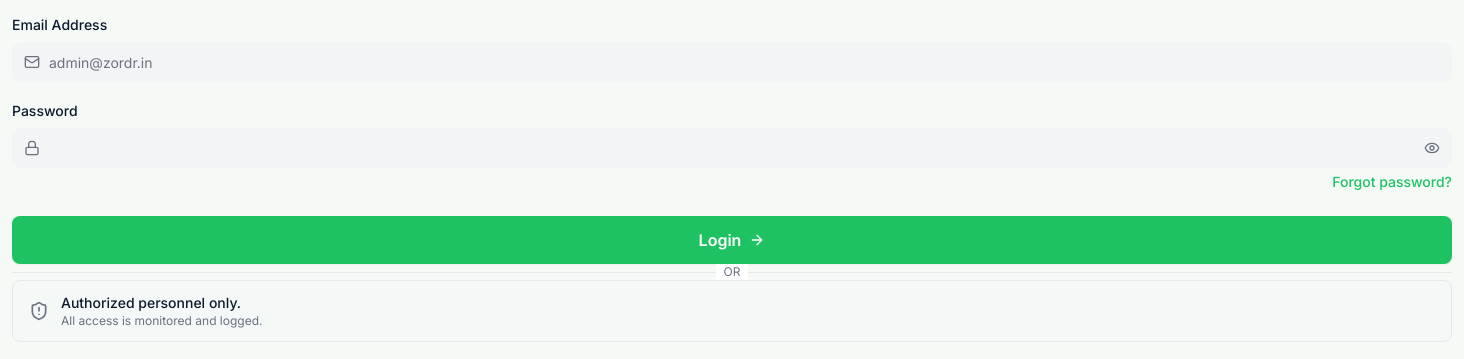
Test: LoginForm › MFA flow › renders MFA step when mfaRequired is true
Type "mfa@zordr.com" into the field labelled "Email Address" at {"x": 732, "y": 62}, box left=12, top=42, right=1452, bottom=82
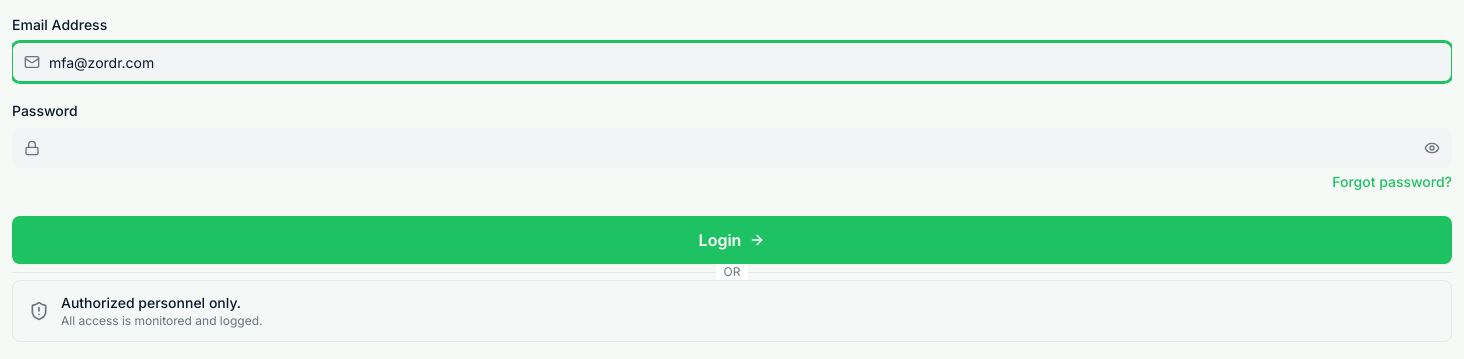
Type "Test@1234" into the password field labelled "Password" at {"x": 732, "y": 148}, box left=12, top=128, right=1452, bottom=168
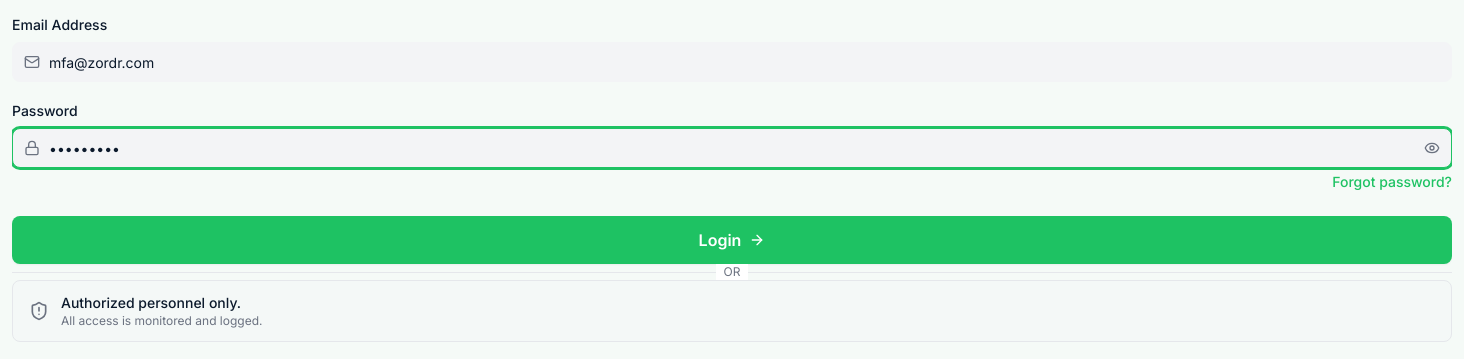
Click the button "Login" at {"x": 732, "y": 240}, box left=12, top=216, right=1452, bottom=264
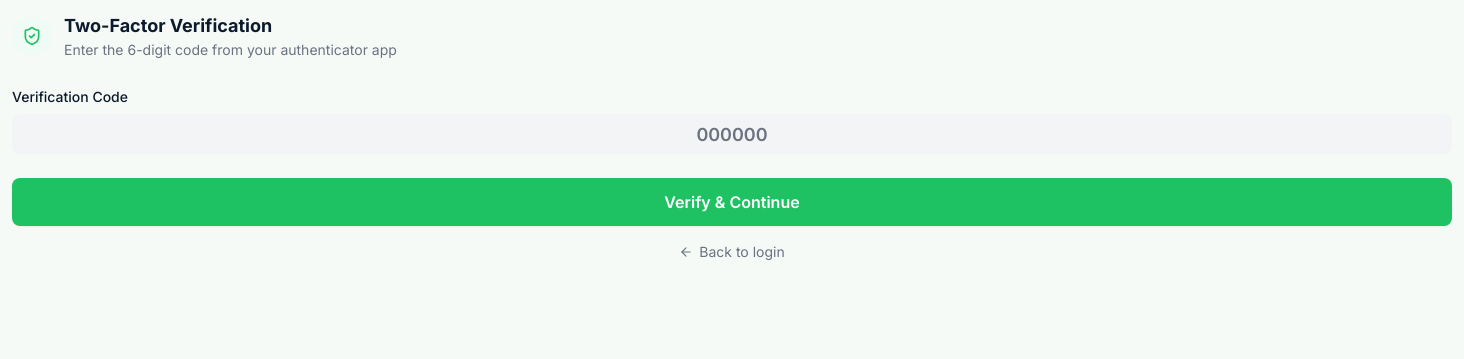
Expected: the heading "Two-Factor Verification" is shown, left=64, top=15, right=272, bottom=36
